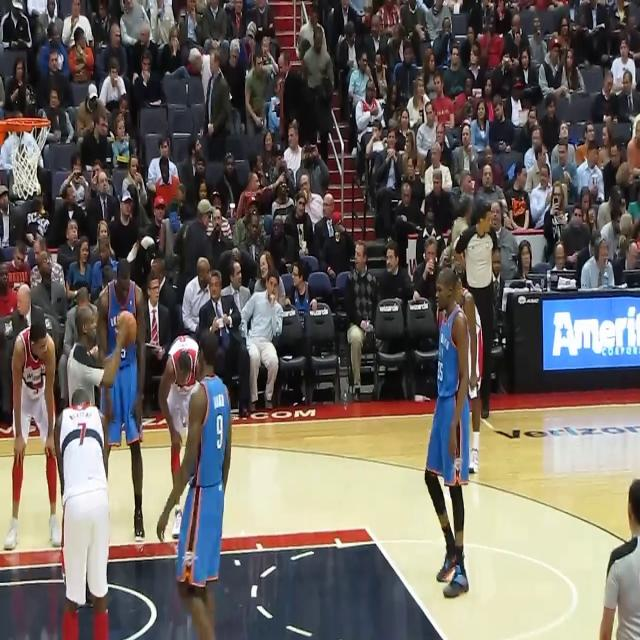ball: (118, 310, 138, 348)
